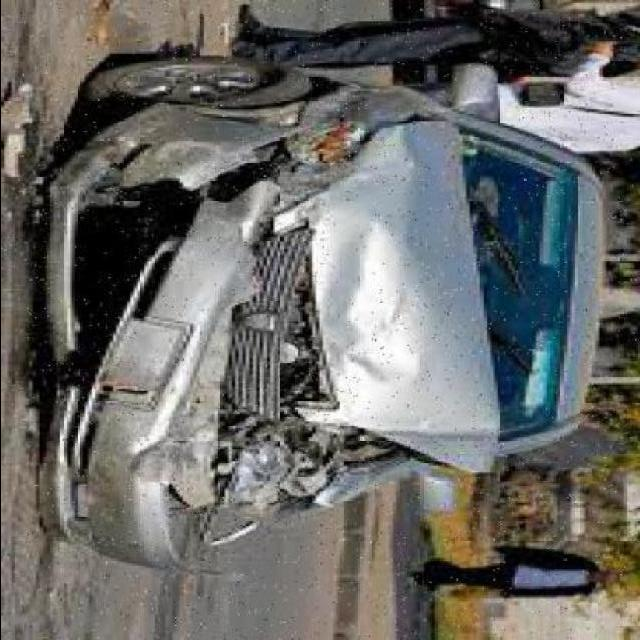bonnet-dent: (280, 88, 508, 498)
front-bumper-dent: (39, 68, 277, 576)
